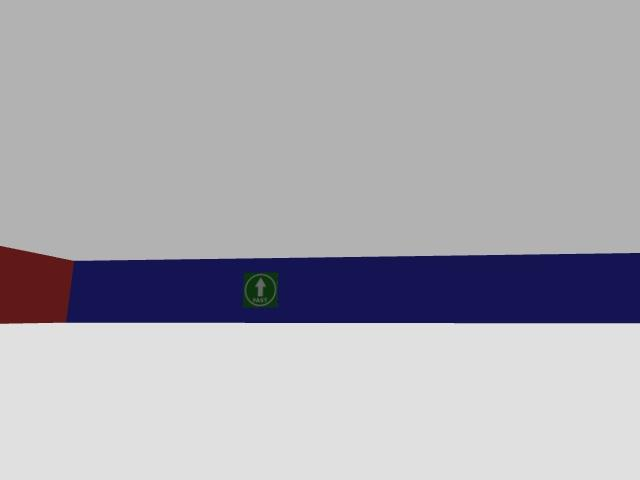fast: (244, 273, 277, 307)
